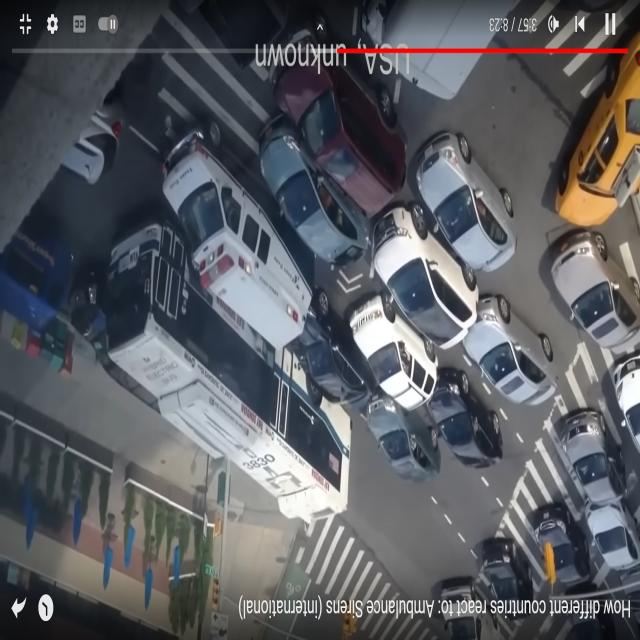ambulance: (213, 119, 313, 331)
